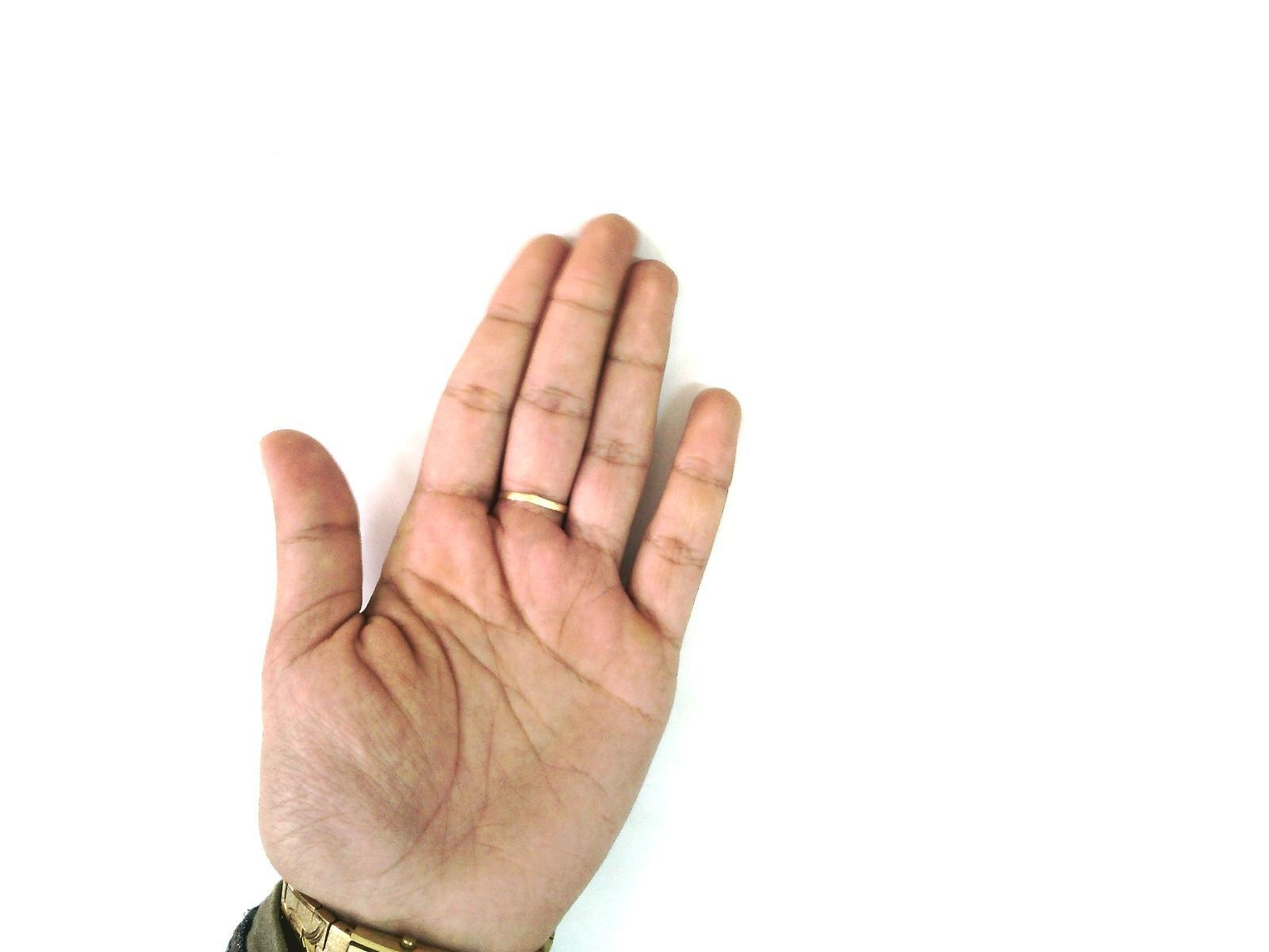open_palm: (251, 212, 746, 950)
